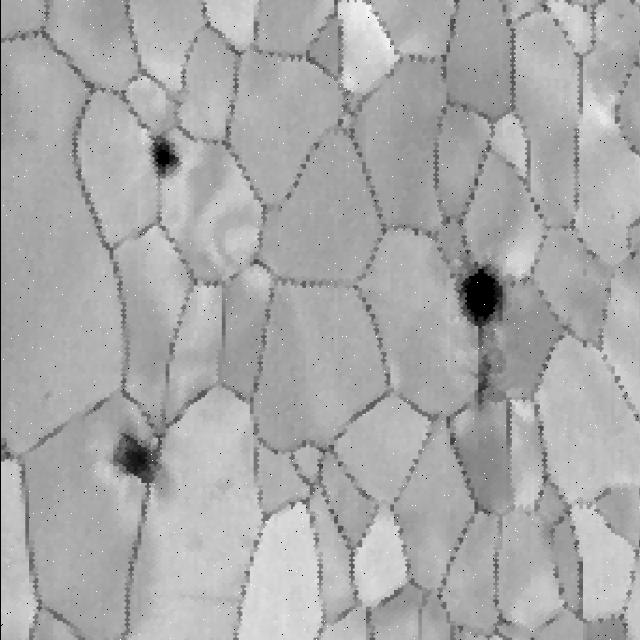good_void: (444, 257, 518, 343), (100, 419, 170, 498), (456, 347, 507, 417), (142, 133, 197, 184)
